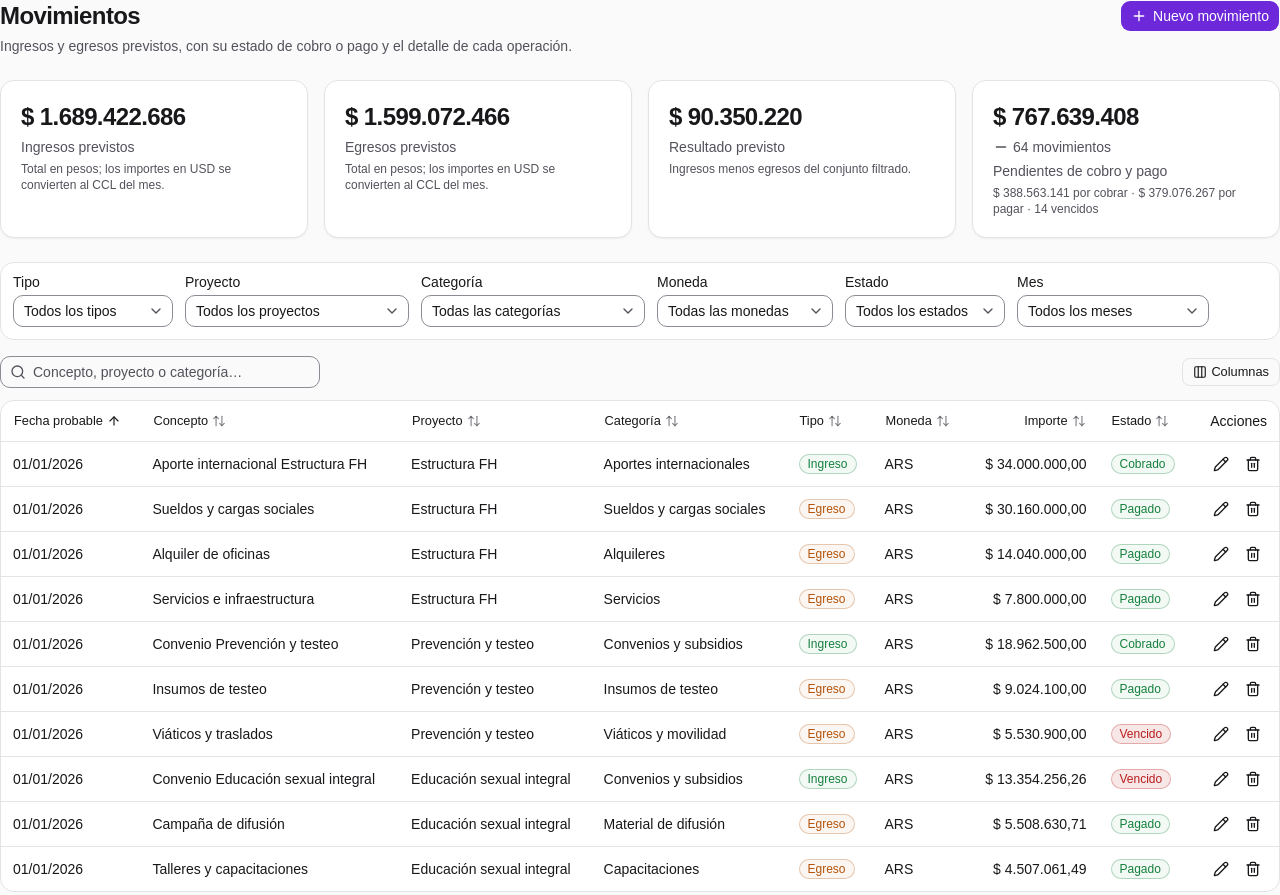
Test: MovimientosPage › filtra por mes en la API mock
Expected: the text "01/01/2026" next to "Aporte internacional Estructura FH" is shown, [13,456,83,472]
Click the dropdown labelled "mes" at x=1113, y=311, box [1017,295,1209,327]
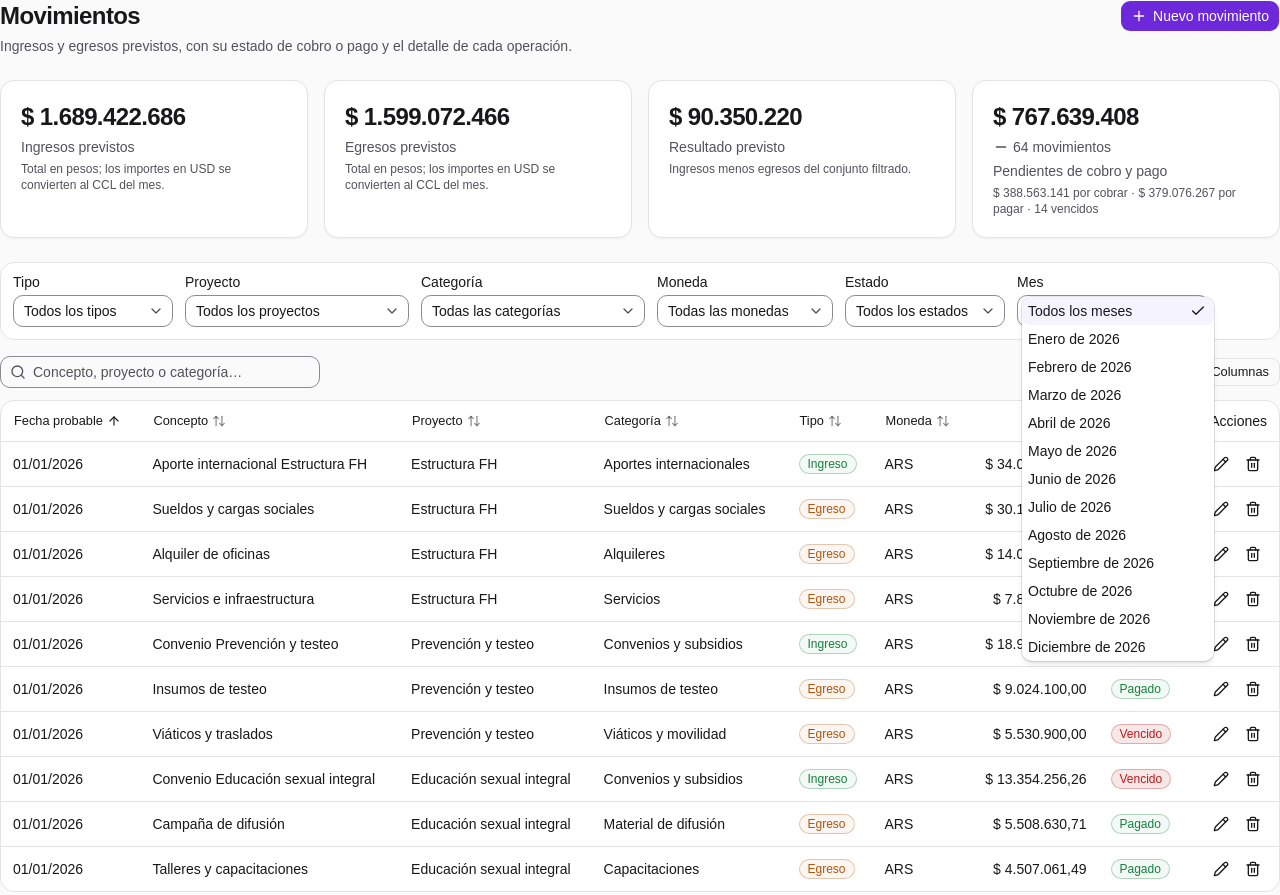
Click the option "Marzo de 2026" at x=1075, y=395, box [1028,387,1121,403]
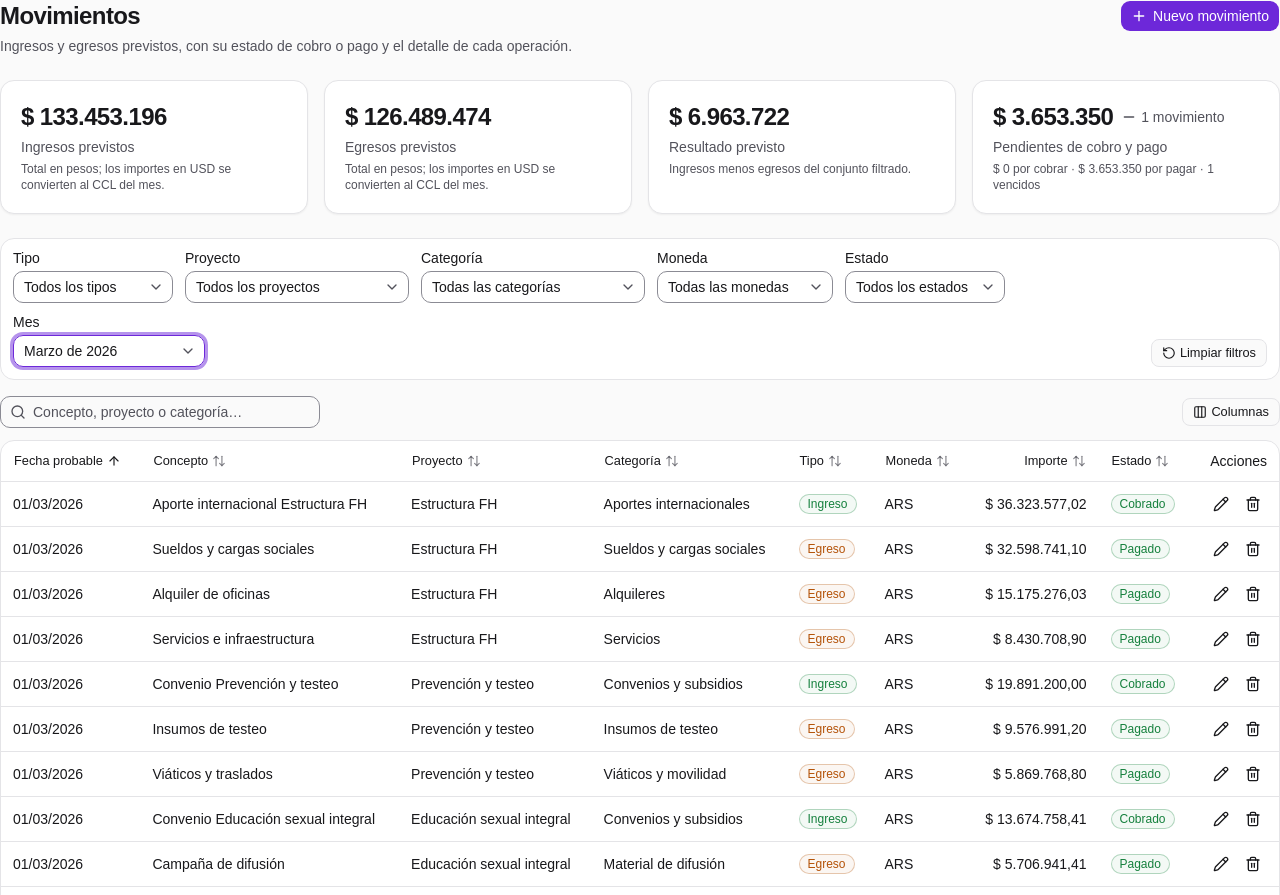
Expected: the text "01/03/2026" next to "Aporte internacional Estructura FH" is shown, [13,496,83,512]
Expected: the text "01/01/2026" is not shown
